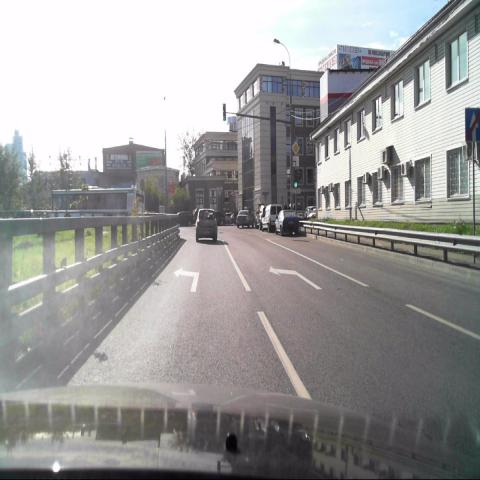5_6: (464, 107, 480, 141)
